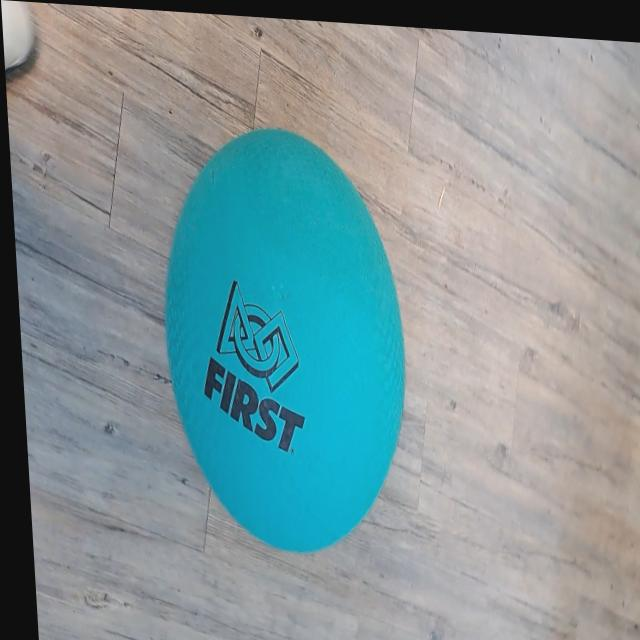ALGAE: (151, 117, 418, 563)
